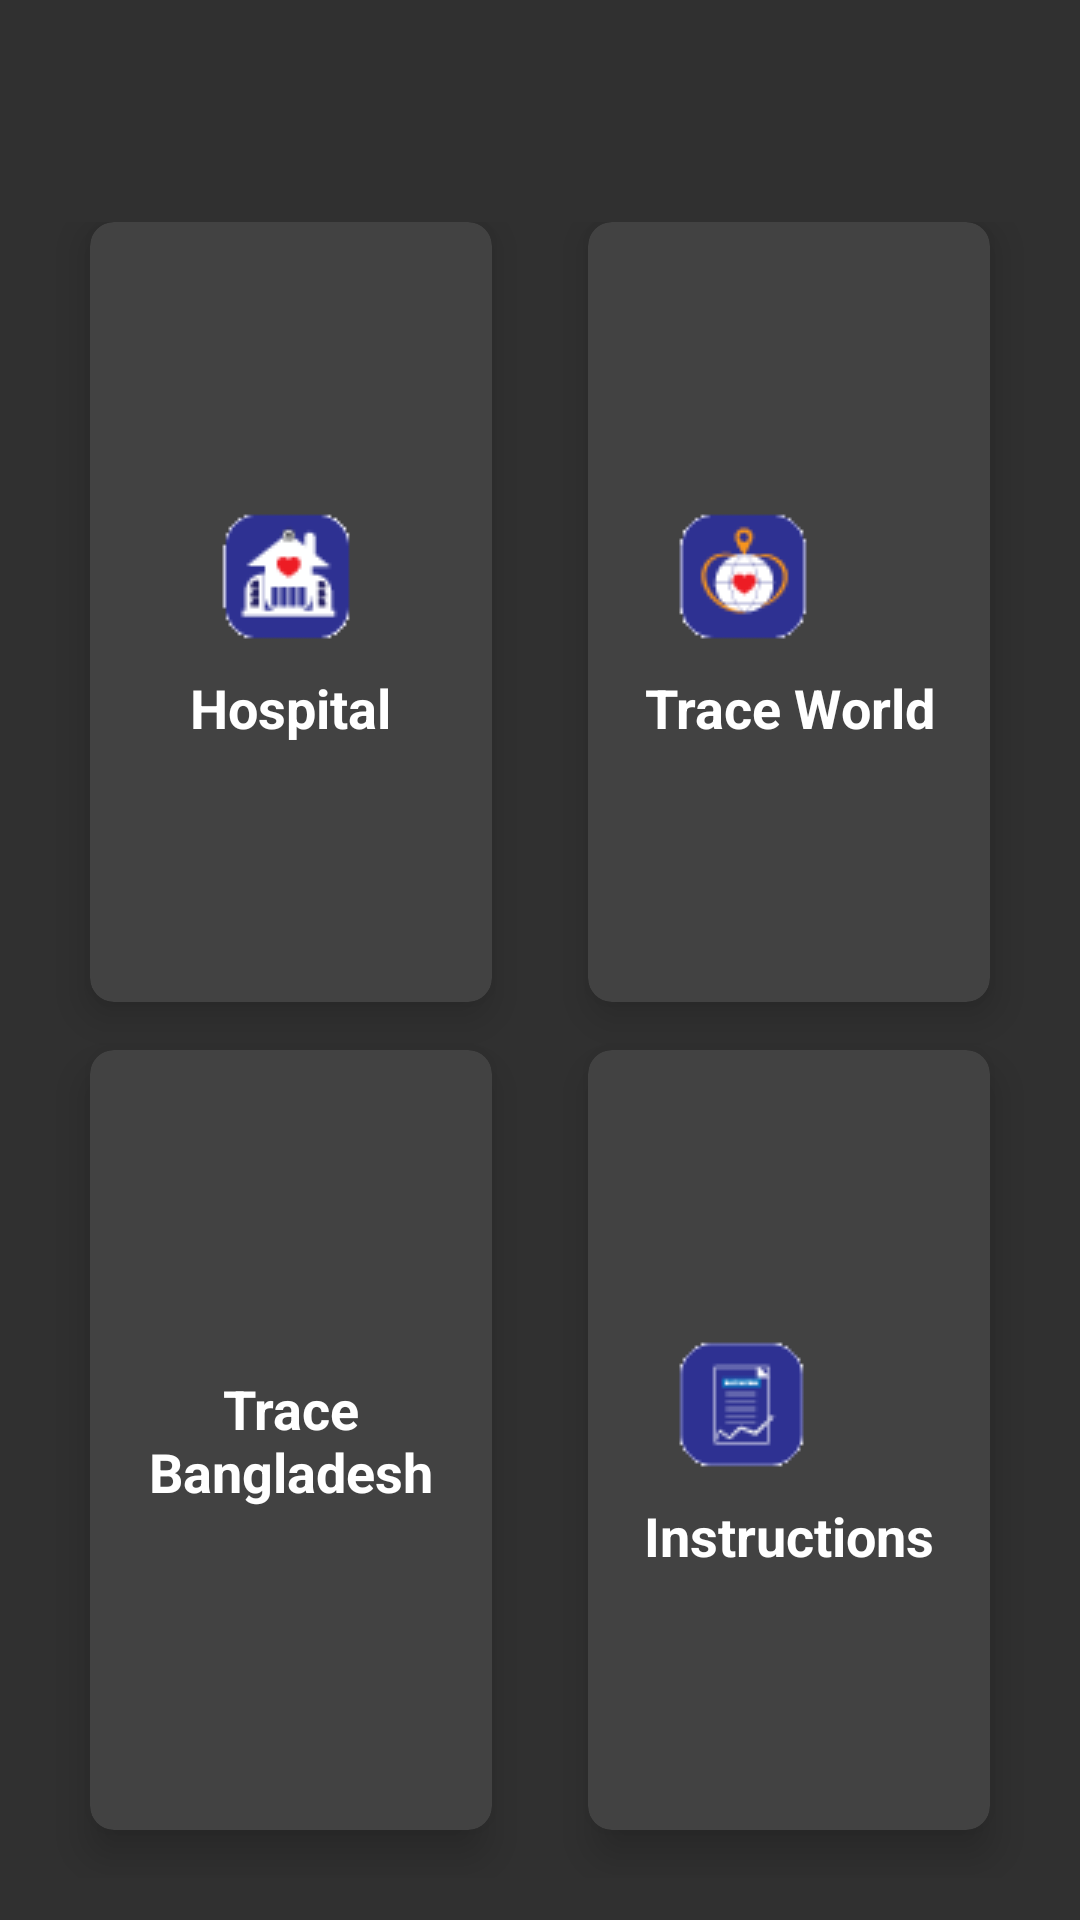

Locate icon controls on the screen. Image size 1080 x 1920, boxes as (x1, y1, x2, y2).
instuction: (679, 1342, 804, 1467)
